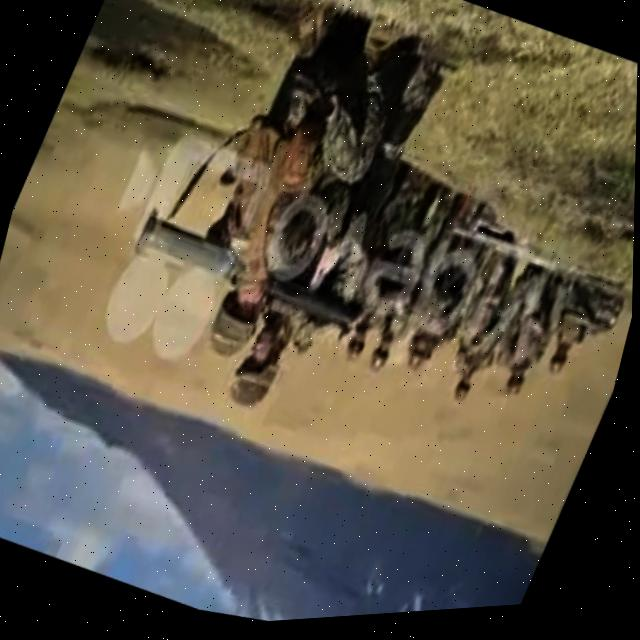rocket: (122, 199, 385, 356)
